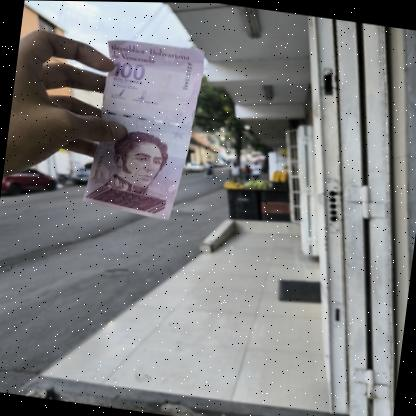one_hundred-front-vef: (80, 35, 204, 221)
